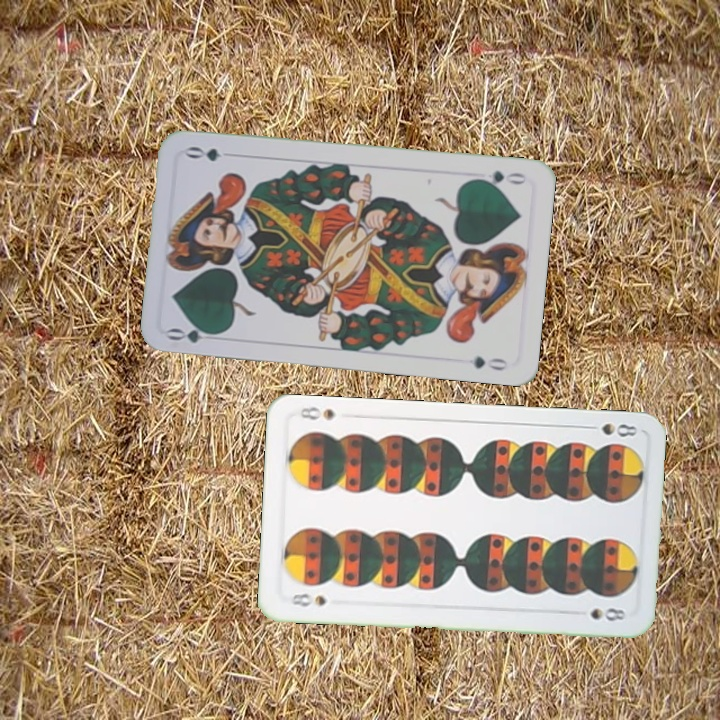GO: (164, 320, 224, 346), (470, 166, 530, 189)
S8: (581, 419, 640, 439), (287, 589, 329, 610)
